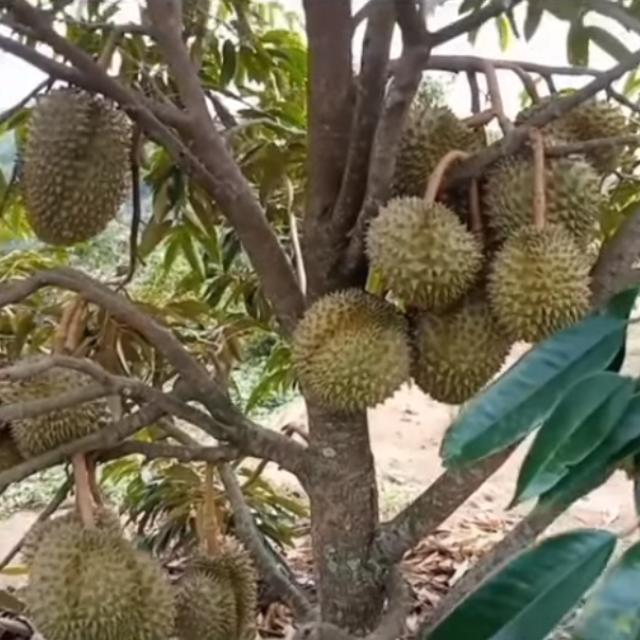mature: (280, 283, 416, 424), (15, 89, 132, 248), (399, 263, 522, 408), (32, 517, 174, 640), (486, 221, 598, 350), (363, 198, 482, 316), (173, 533, 261, 640)
